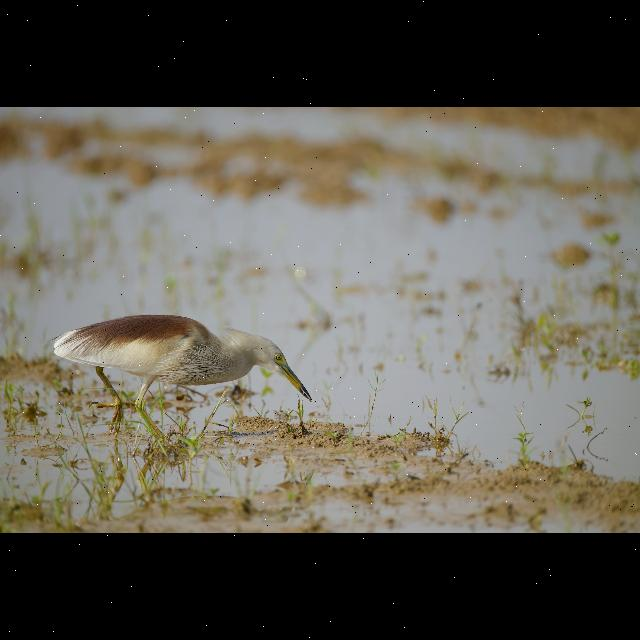heron: (50, 305, 312, 427)
